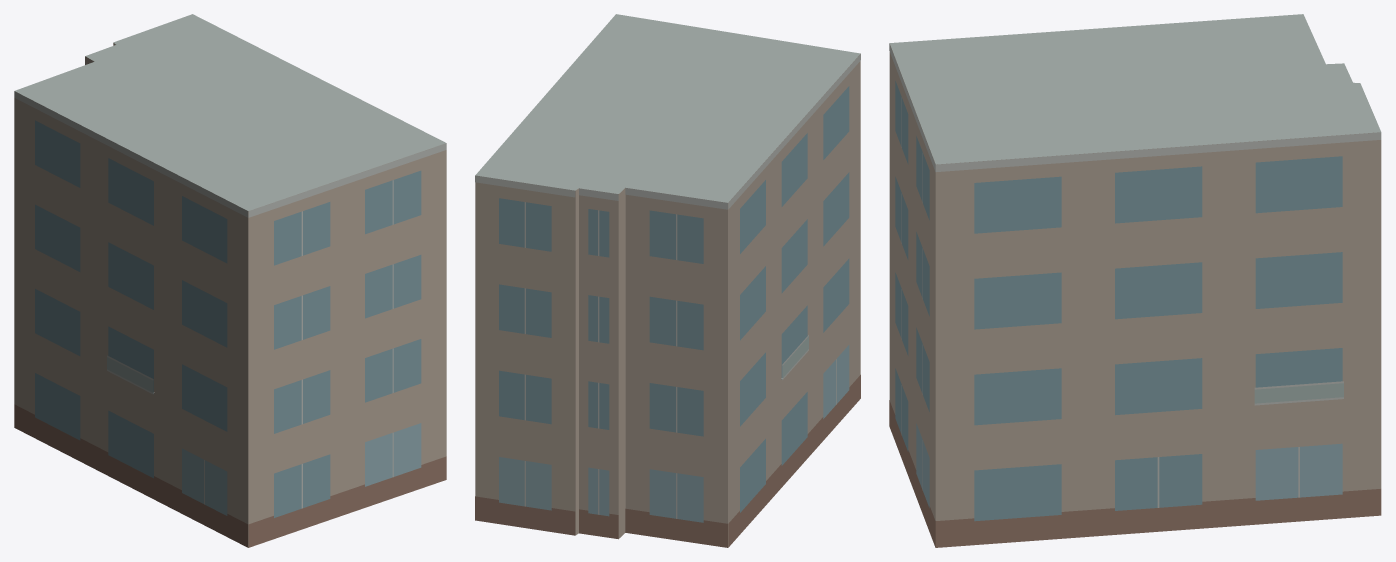
The model's file is survey-upis-33002977.glb.
3 renders of one model, left to right at view 1: azimuth 30°, elevation 25°; view 2: azimuth 150°, elevation 25°; view 3: azimuth 270°, elevation 25°, orthographic. The views are drawn at different scales.
Visible parts, largest first — view 1: survey-upis-33002977.tmp; view 2: survey-upis-33002977.tmp; view 3: survey-upis-33002977.tmp.
Part boxes in pixels (left/top/right/bottom): survey-upis-33002977.tmp: left=14, top=14, right=446, bottom=547; survey-upis-33002977.tmp: left=475, top=14, right=860, bottom=547; survey-upis-33002977.tmp: left=889, top=14, right=1381, bottom=547.
Bounding box in the file's own units: 10.28 × 12.2 × 14.2.
